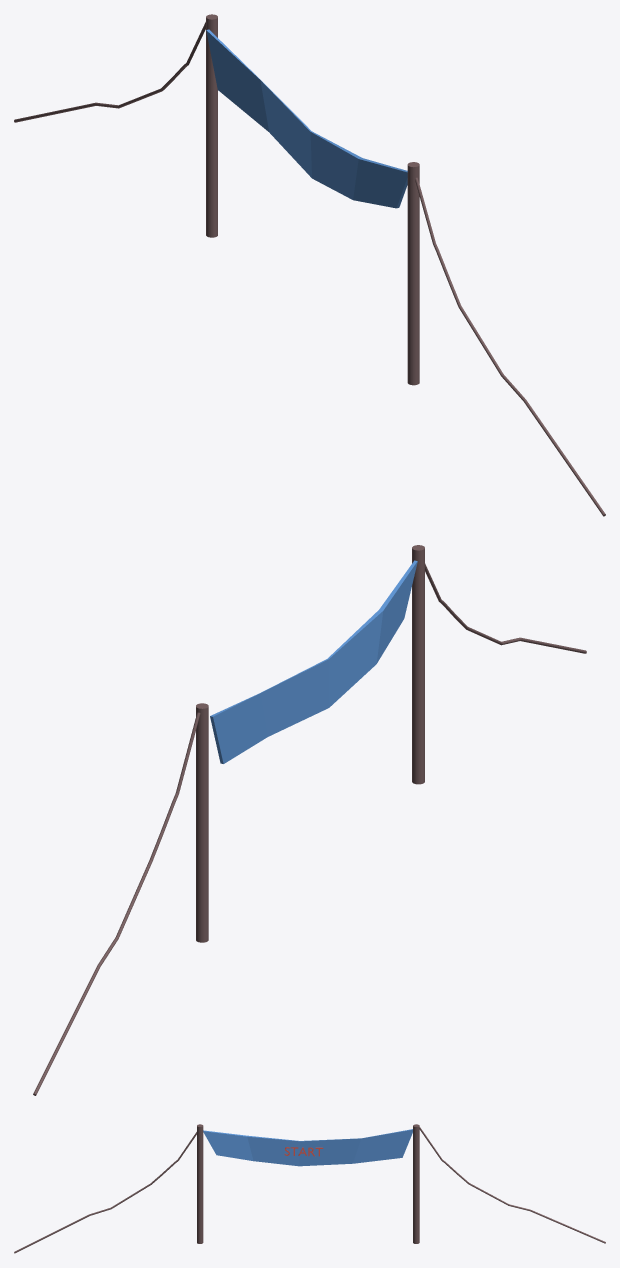
File: Flag.fbx
3 renders of one model, top to bottom at view 1: azimuth 30°, elevation 25°; view 2: azimuth 150°, elevation 25°; view 3: azimuth 270°, elevation 25°, orthographic. The views are drawn at different scales.
Parts seen in each view (by area): view 1: Cube, Cylinder, Cylinder.001, Cylinder.003, Cylinder.002; view 2: Cube, Cylinder.001, Cylinder, Cylinder.002, Cylinder.003; view 3: Cube, Cylinder.001, Cylinder, Cylinder.003, Cylinder.002.
Boxes of the visible parts, x1,y1,x2,y2 form: Cube: (206,29,407,208); Cylinder: (407,162,419,385); Cylinder.001: (206,14,217,237); Cylinder.003: (415,177,605,516); Cylinder.002: (14,22,205,122); Cube: (210,560,417,763); Cylinder.001: (196,703,208,942); Cylinder: (412,545,424,784); Cylinder.002: (33,712,200,1095); Cylinder.003: (425,563,586,653); Cube: (203,1129,412,1166); Cylinder.001: (413,1124,419,1243); Cylinder: (197,1124,203,1243); Cylinder.003: (14,1132,196,1253); Cylinder.002: (419,1127,605,1243).
Bounding box in the file's own units: 189 × 1021 × 4450.
